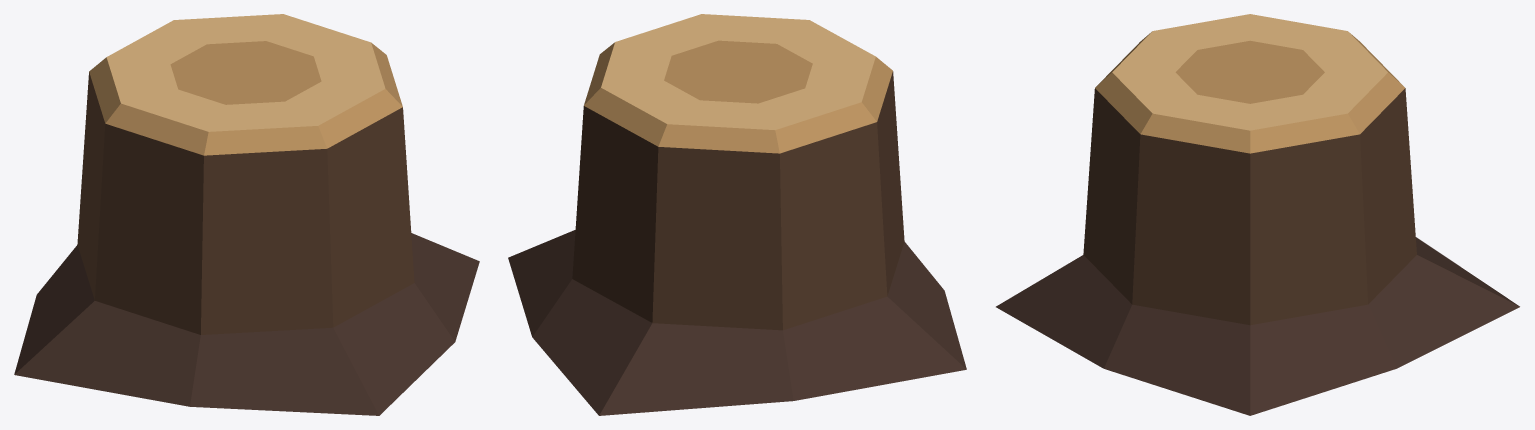
The model's file is stump.glb.
The picture shows the model from 3 angles, left to right: view 1: azimuth 30°, elevation 25°; view 2: azimuth 150°, elevation 25°; view 3: azimuth 270°, elevation 25°; orthographic projection. The views are drawn at different scales.
Parts seen in each view (by area): view 1: stump; view 2: stump; view 3: stump.
Part boxes in pixels (box(x1,y1,x2,y2)): stump: box(14, 14, 479, 415); stump: box(508, 14, 966, 415); stump: box(996, 14, 1519, 415).
Bounding box in the file's own units: 0.8936 × 0.45 × 0.9131.
1 material, 1 textured.
